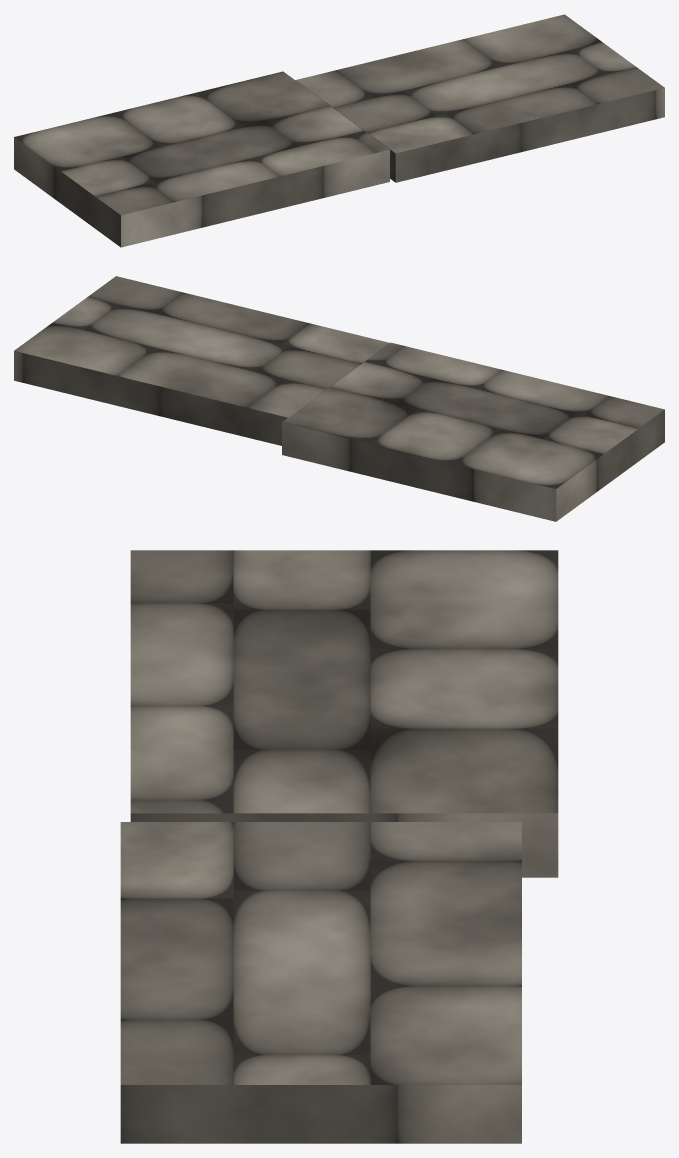
Rendered from Prop_ExteriorBorder_Straight1_LOD2.gltf.
3 renders of one model, top to bottom at view 1: azimuth 30°, elevation 25°; view 2: azimuth 150°, elevation 25°; view 3: azimuth 270°, elevation 25°, orthographic. The views are drawn at different scales.
Parts seen in each view (by area): view 1: Prop_ExteriorBorder_Straight1_LOD2; view 2: Prop_ExteriorBorder_Straight1_LOD2; view 3: Prop_ExteriorBorder_Straight1_LOD2.
Part boxes in pixels (x1,y1,x2,y2): Prop_ExteriorBorder_Straight1_LOD2: (14,14,664,247); Prop_ExteriorBorder_Straight1_LOD2: (14,276,664,521); Prop_ExteriorBorder_Straight1_LOD2: (120,550,558,1143).
Bounding box in the file's own units: 2 × 0.1137 × 0.6993.
1 material, 1 textured.
